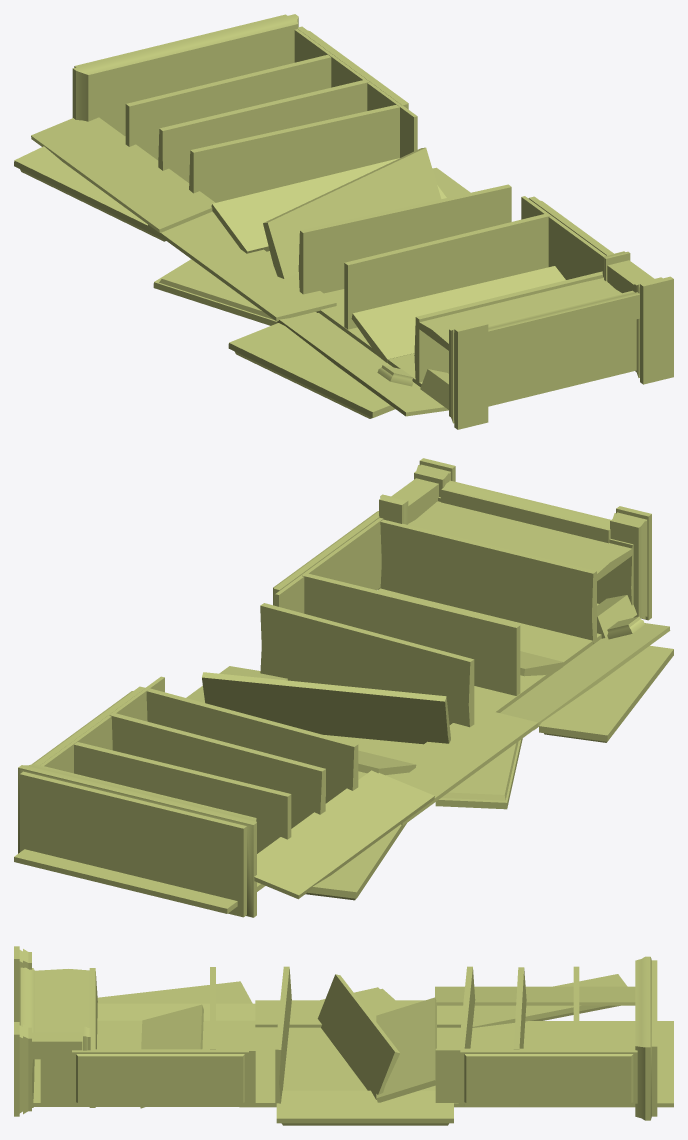
The model's file is Bookcase_05_BreakA_Lod0.fbx.
3 views of the same model, one above another, from view 1: azimuth 30°, elevation 25°; view 2: azimuth 150°, elevation 25°; view 3: azimuth 270°, elevation 25° (orthographic). The views are drawn at different scales.
Parts seen in each view (by area): view 1: Bookcase_05_BreakA_Lod0; view 2: Bookcase_05_BreakA_Lod0; view 3: Bookcase_05_BreakA_Lod0.
Part boxes in pixels (bbox=[...]): Bookcase_05_BreakA_Lod0: bbox=[14, 14, 673, 429]; Bookcase_05_BreakA_Lod0: bbox=[14, 458, 673, 917]; Bookcase_05_BreakA_Lod0: bbox=[14, 946, 673, 1125].
Size of the model in its own units: 243 by 70.62 by 495.
